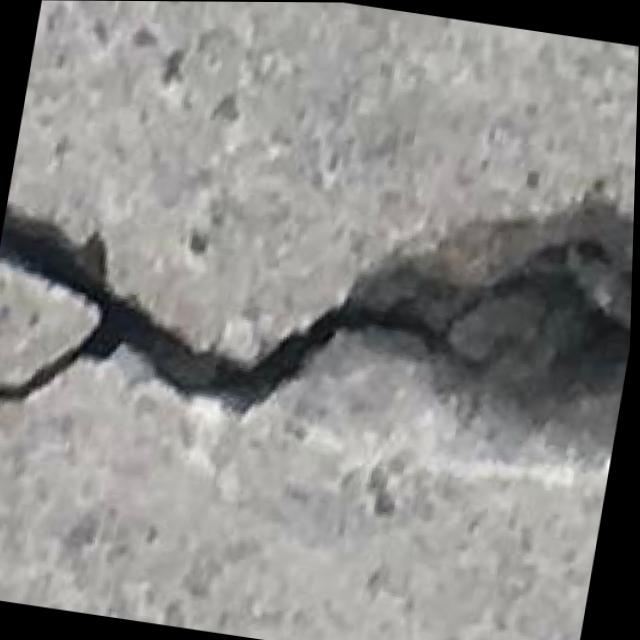Crack: (0, 92, 638, 534)
